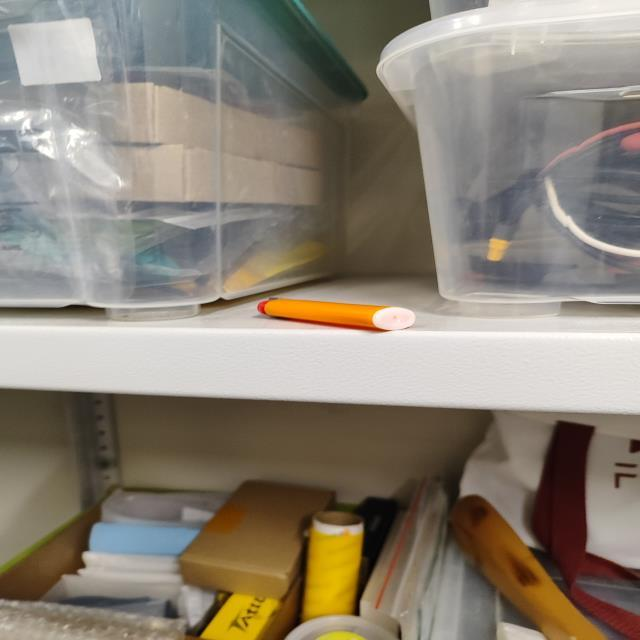lighter: (258, 298, 415, 331)
